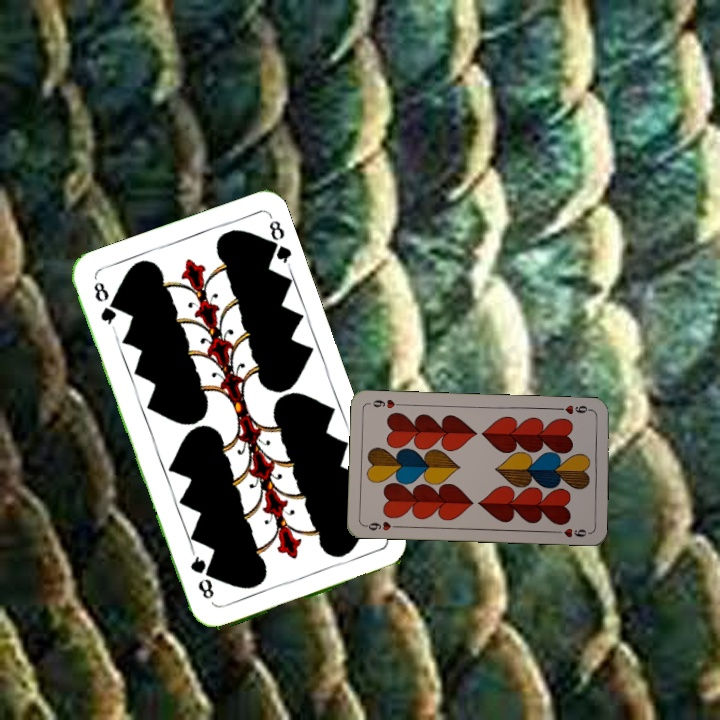G8: (89, 277, 120, 332)
H9: (361, 517, 402, 533), (554, 401, 594, 417)
